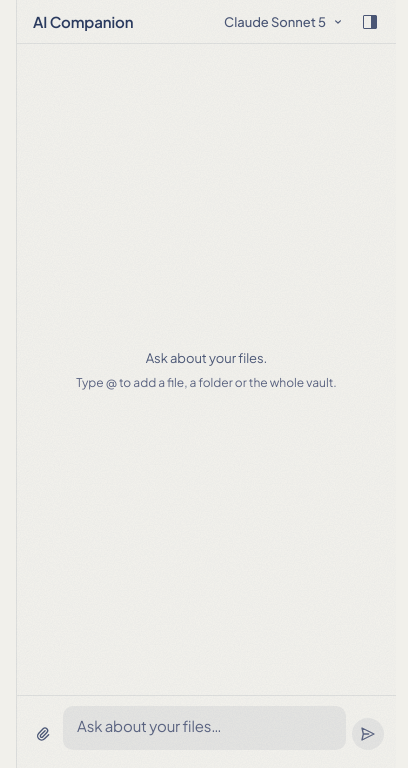
Test case: CompanionPanel › sends a command typed in full, and lets Escape close the menu
Step 1. Type "/clear" into the text box named "Message the AI" → (204, 728), box [63,706,346,750]
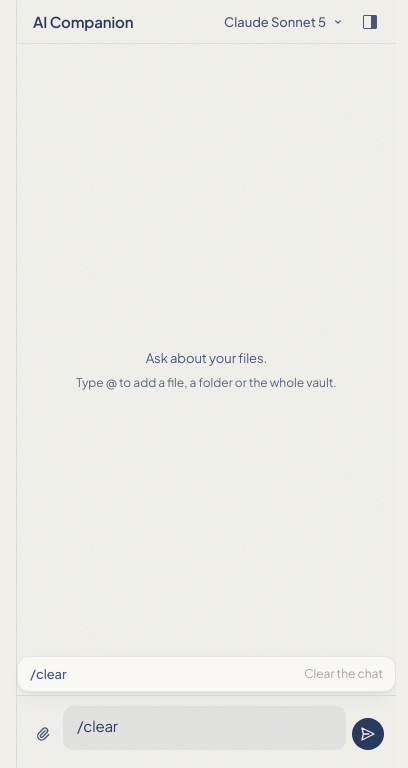
Step 2. Press Enter in the text box named "Message the AI", box [63,706,346,750]
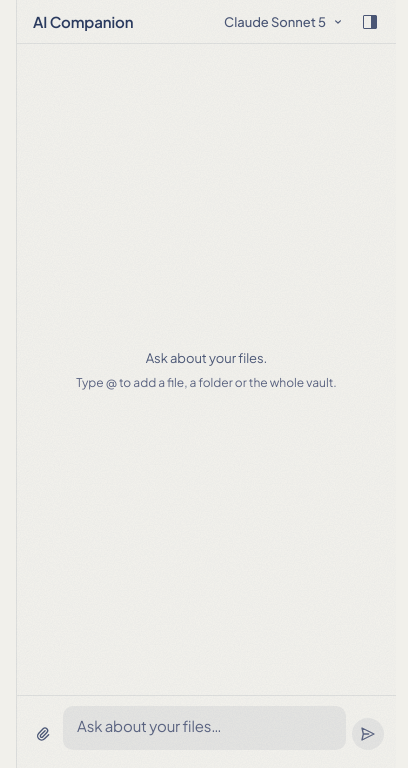
Step 3. Type "/ne" into the text box named "Message the AI" → (204, 728), box [63,706,346,750]
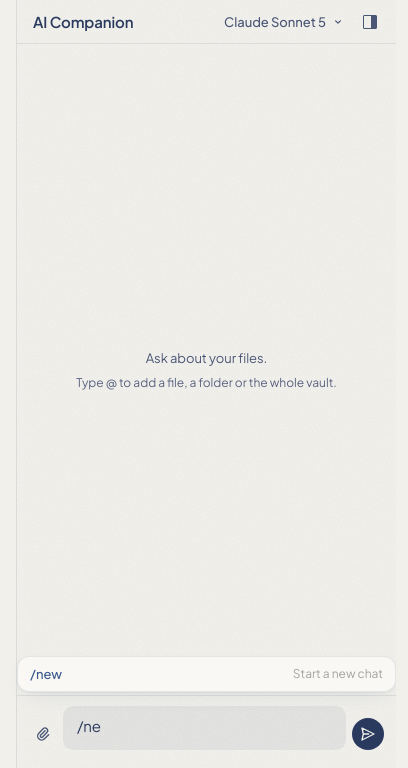
Step 4. Press Escape in the text box named "Message the AI", box [63,706,346,750]
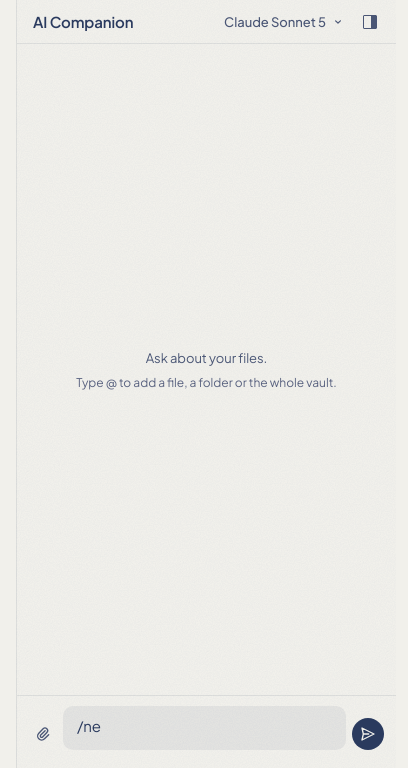
Check: the list is gone
